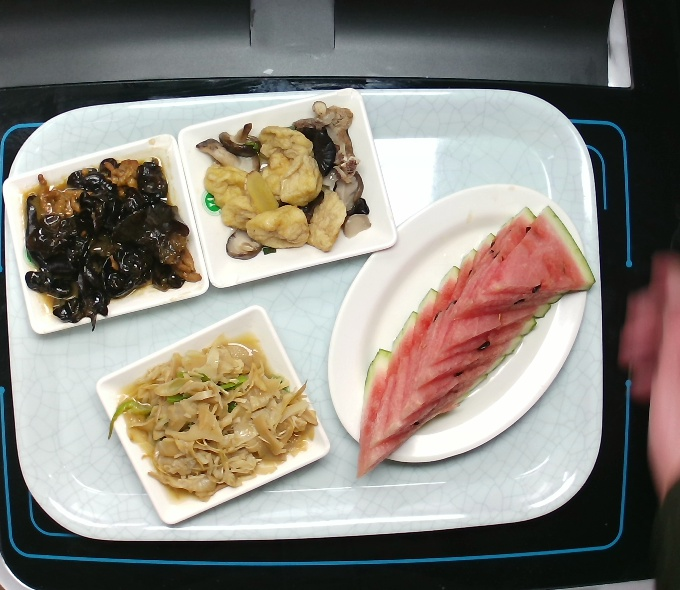wcq-LuSun: (113, 330, 323, 509)
wcq-MuErChaoRou: (17, 150, 207, 327)
wcq-XiGua: (348, 202, 599, 484)
wcq-YouPaoPaiGu: (189, 98, 377, 266)
